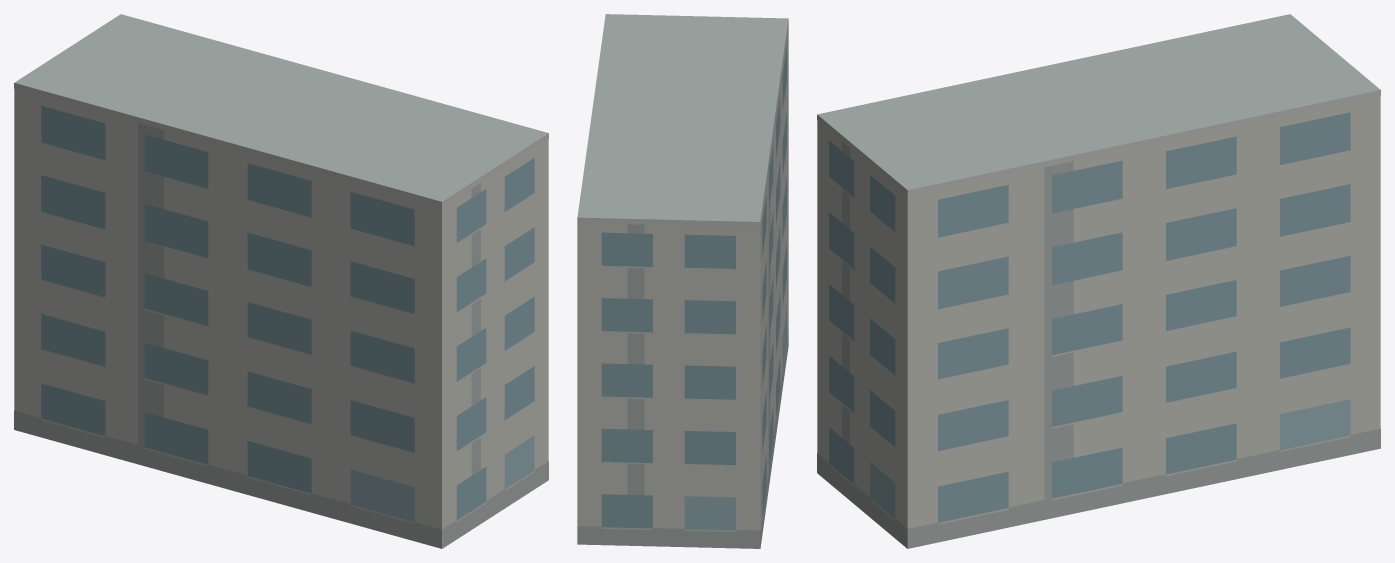
The model's file is survey-upis-32637244.glb.
3 renders of one model, left to right at view 1: azimuth 30°, elevation 25°; view 2: azimuth 150°, elevation 25°; view 3: azimuth 270°, elevation 25°, orthographic. The views are drawn at different scales.
Visible parts, largest first — view 1: survey-upis-32637244.tmp; view 2: survey-upis-32637244.tmp; view 3: survey-upis-32637244.tmp.
Part boxes in pixels (bbox=[...]): survey-upis-32637244.tmp: bbox=[14, 14, 548, 548]; survey-upis-32637244.tmp: bbox=[577, 14, 788, 548]; survey-upis-32637244.tmp: bbox=[817, 14, 1380, 548].
Bounding box in the file's own units: 15.29 × 14.5 × 20.66.
